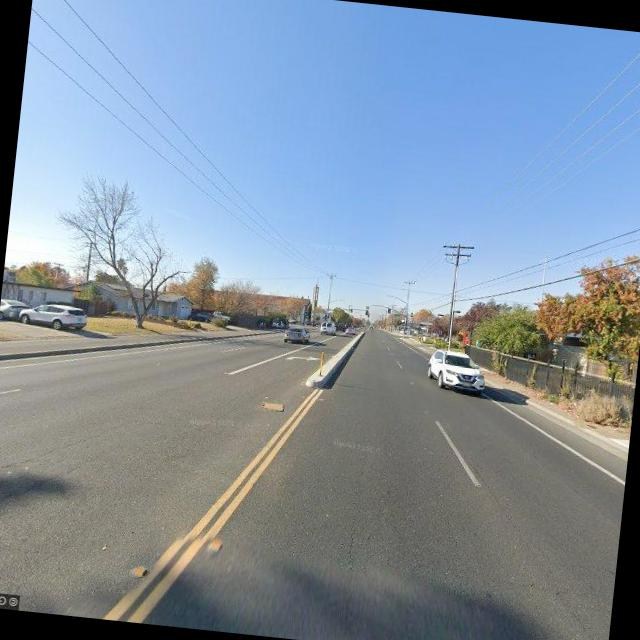pothole: (0, 420, 104, 478), (342, 522, 365, 568)
